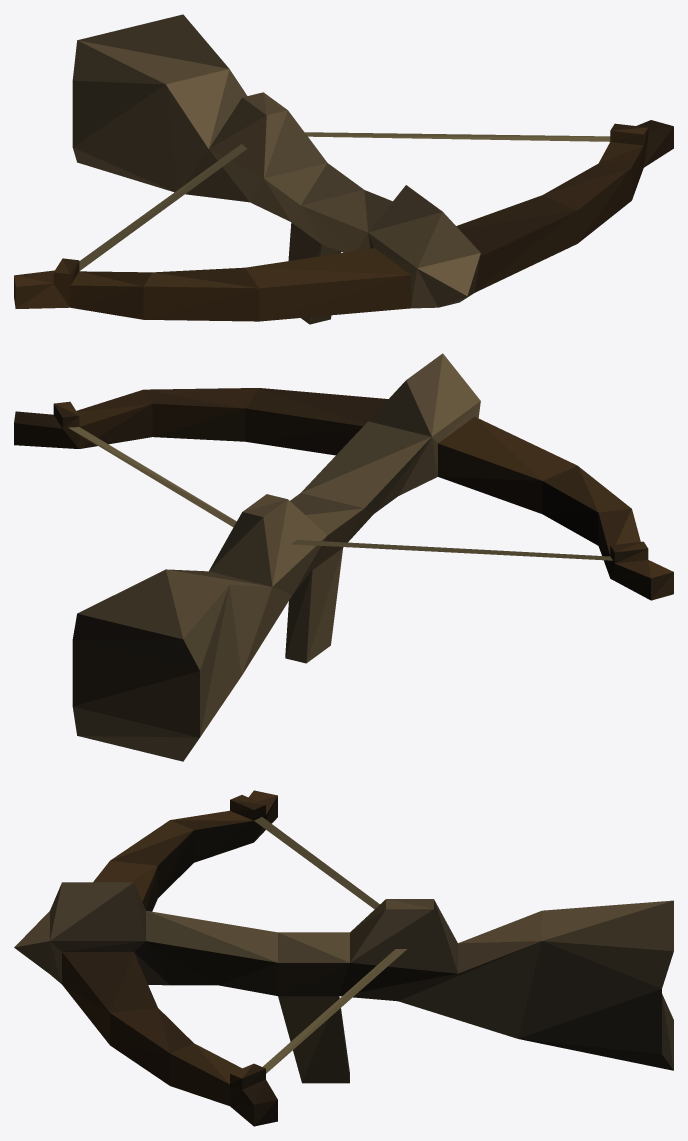
Rendered from bronze-crossbow.obj.
3 views of the same model, one above another, from view 1: azimuth 30°, elevation 25°; view 2: azimuth 150°, elevation 25°; view 3: azimuth 270°, elevation 25° (orthographic). The views are drawn at different scales.
Visible parts, largest first — view 1: Item Bronze crossbow 2026-09-24_13-53-10; view 2: Item Bronze crossbow 2026-09-24_13-53-10; view 3: Item Bronze crossbow 2026-09-24_13-53-10.
Part boxes in pixels (left/top/right/bottom): Item Bronze crossbow 2026-09-24_13-53-10: left=14, top=14, right=673, bottom=324; Item Bronze crossbow 2026-09-24_13-53-10: left=14, top=353, right=673, bottom=761; Item Bronze crossbow 2026-09-24_13-53-10: left=14, top=790, right=673, bottom=1126.
Bounding box in the file's own units: 62 × 18 × 55.
